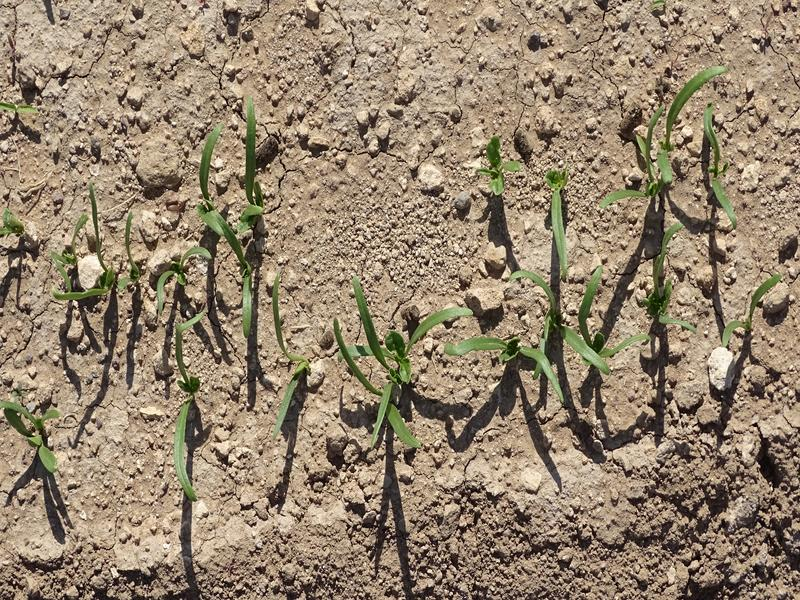Espinaca: (51, 97, 267, 341), (331, 285, 640, 447), (607, 70, 742, 225), (272, 273, 309, 435), (170, 343, 204, 492), (650, 229, 695, 334), (5, 400, 66, 477), (722, 277, 778, 346), (546, 173, 575, 277), (479, 136, 517, 192), (2, 213, 24, 244)
